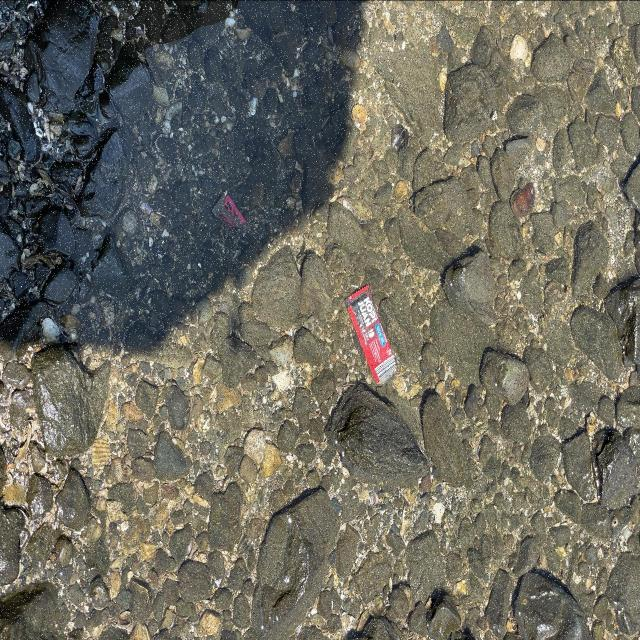plastic_waste: (346, 285, 395, 386)
